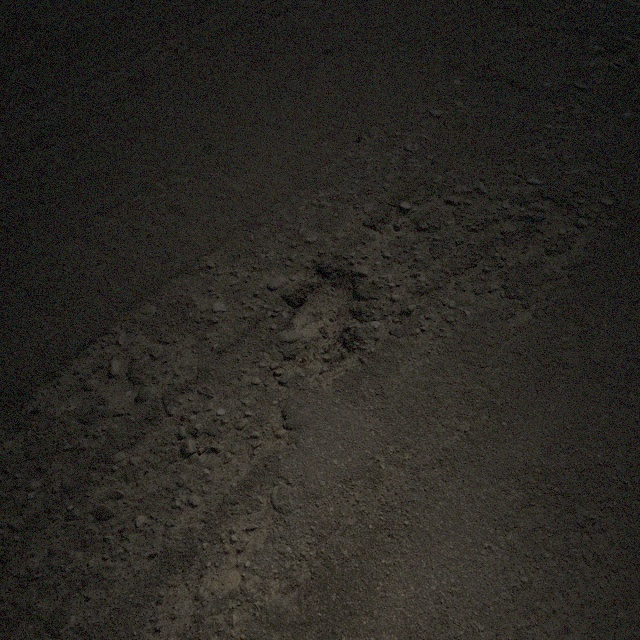pothole: (276, 265, 364, 371), (366, 195, 425, 246)
